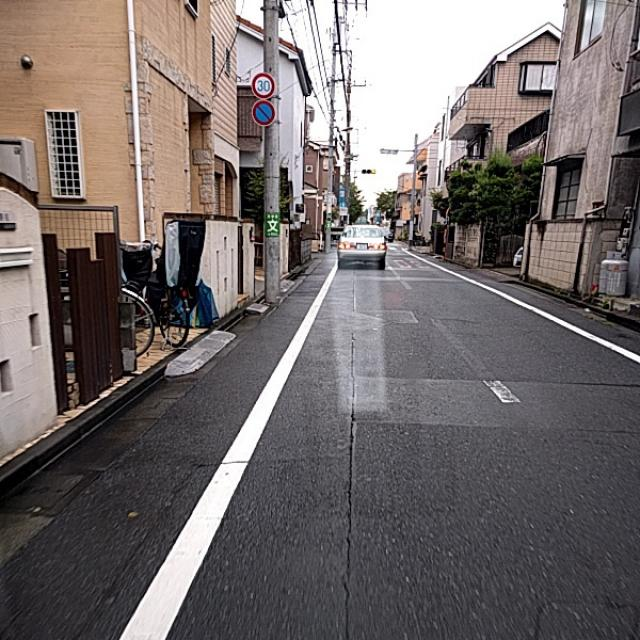pothole: (308, 439, 376, 568)
